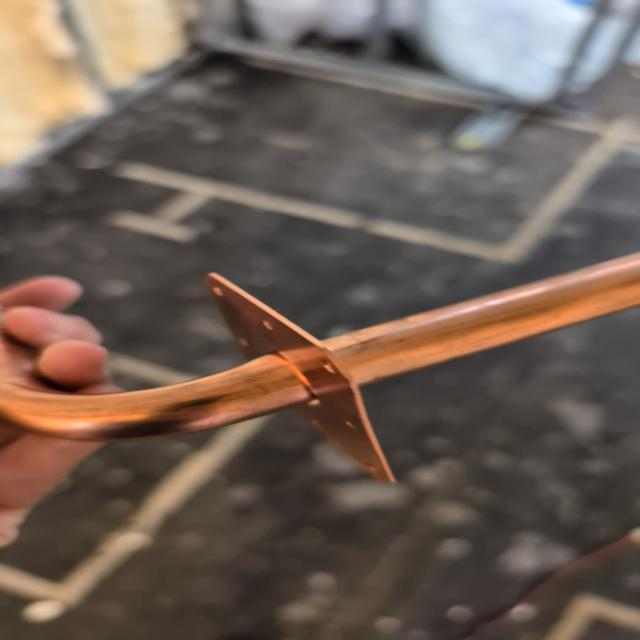wall_flange: (3, 220, 640, 489)
